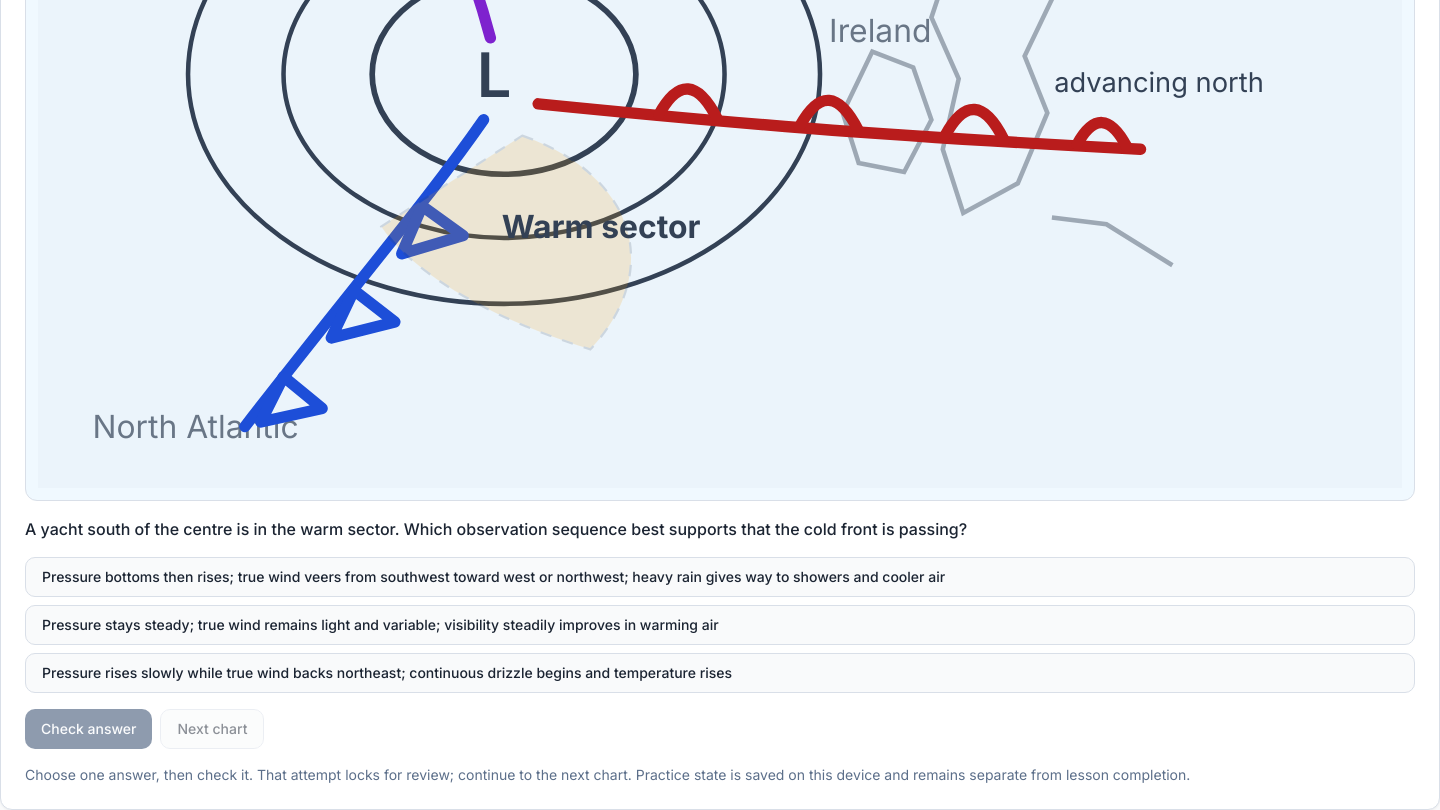
weather interactions › blocks unanswered progression and exposes locked incorrect feedback
This screenshot has width=1440, height=810.
(page scrolled)
Expected: the button "Next chart" is disabled, [160, 709, 264, 749]
Expected: the button "Check answer" is disabled, [25, 709, 152, 749]
What coordinates should you click on to do the following:
click the button "Pressure stays steady"
I would click on:
 (720, 625)
Its box is [25, 605, 1415, 645].
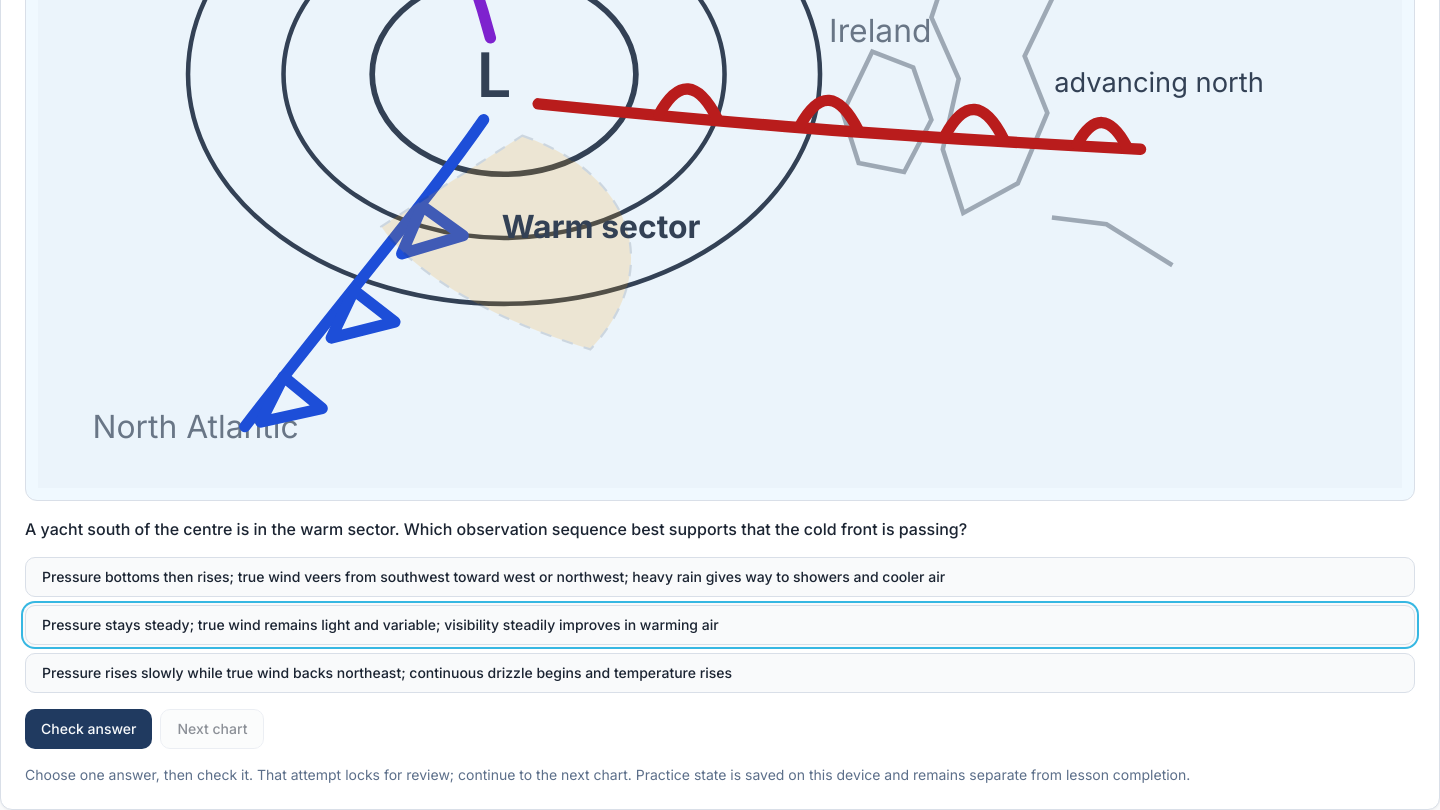
What coordinates should you click on to do the following:
click the button "Check answer"
I would click on:
 (89, 729)
Its box is [25, 709, 152, 749].
(page scrolled)
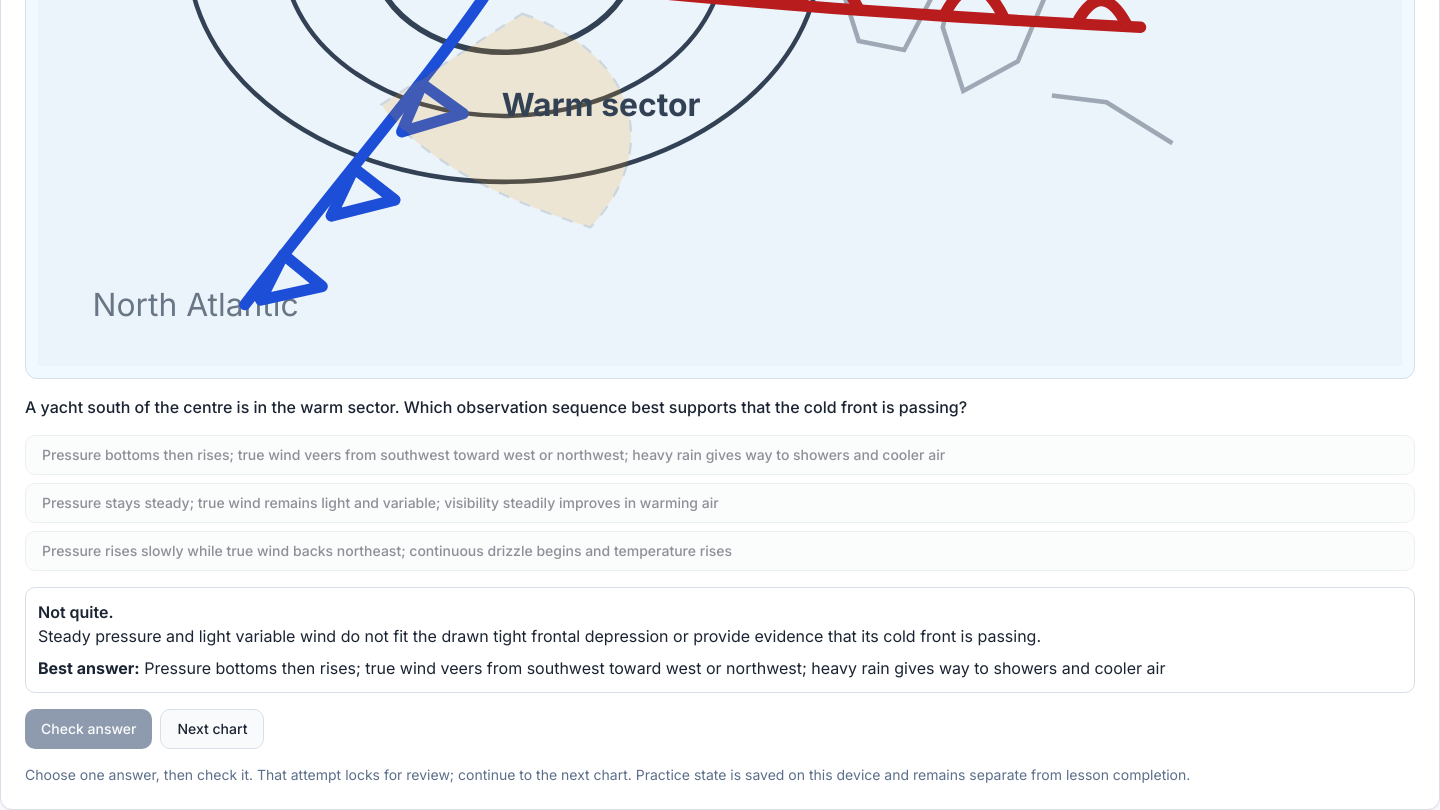
Expected: the button "Pressure stays steady" is disabled, [25, 483, 1415, 523]
Expected: the button "Next chart" is enabled, [160, 709, 264, 749]
